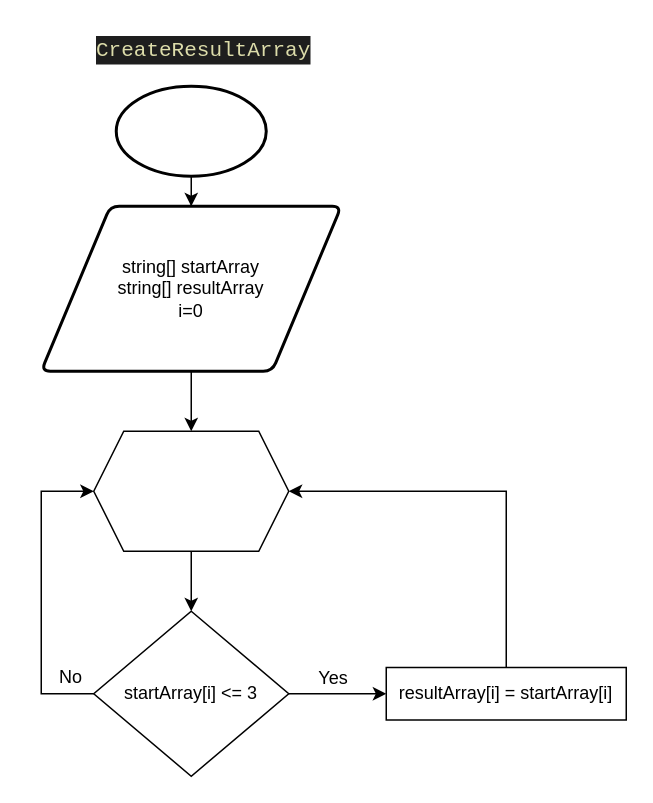
This 653x803 diagram has some shape labels left out. Here are the shapes that lost their labels. From the top down, the centre of each, then its label:
At [190,130]: "Start".
At [190,490]: "i=0, i < startArray.Lenght, i++".
